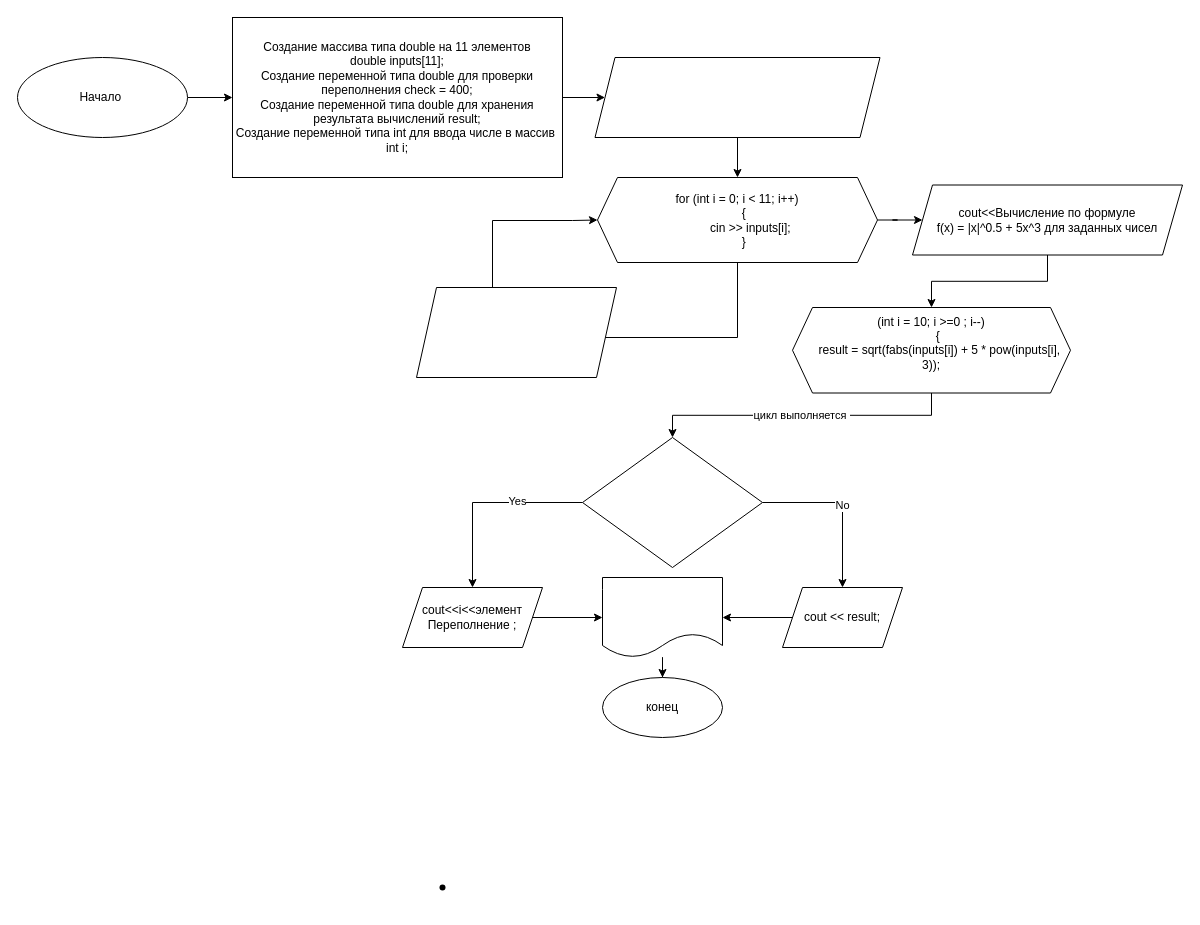
The diagram is 1200 pixels wide and 925 high, and some of its shapes have lost their labels. Here are the shapes that lost their labels. From the top down, the centre of each, then its label:
At (x=737, y=97): "Пожалуйста введите 11 чисел cin>> i ;".
At (x=516, y=332): "Пользователь вводит цифры (11 цифр)".
At (x=672, y=502): "Переменная result переполнена ?".
At (x=662, y=617): "Вывод результата".
